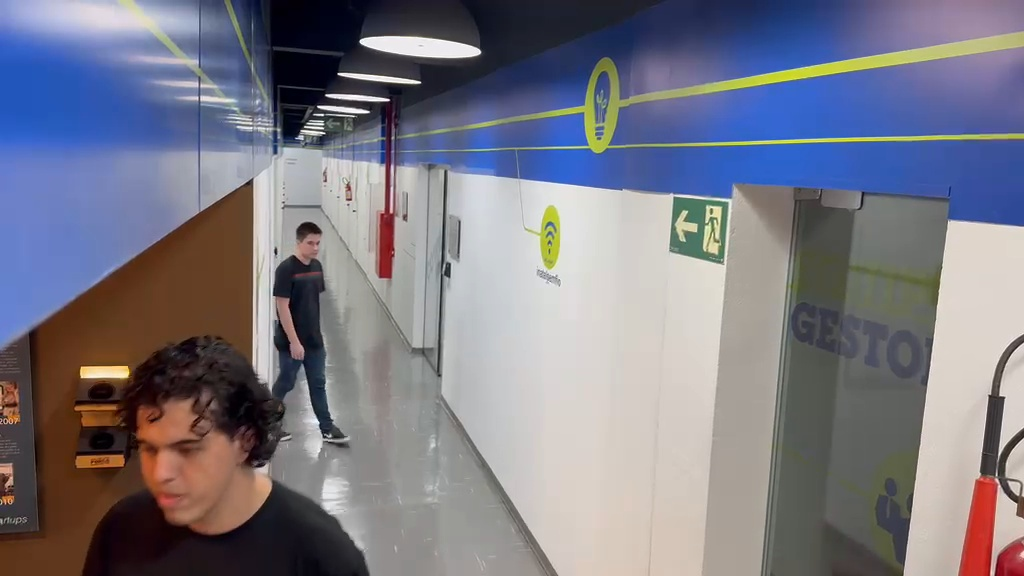person: (80, 335, 371, 571), (271, 221, 351, 447)
